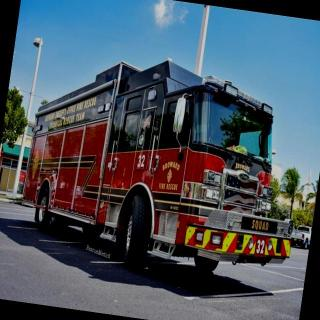Fire_truck: (13, 39, 316, 291)
